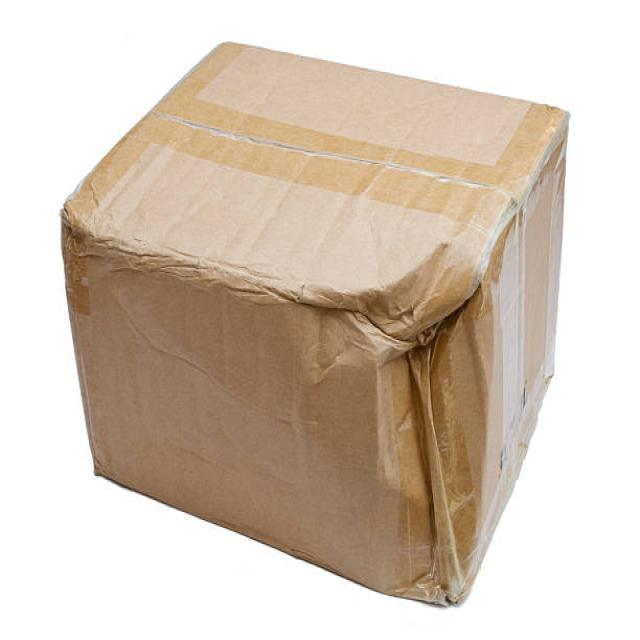box: (68, 101, 597, 553)
